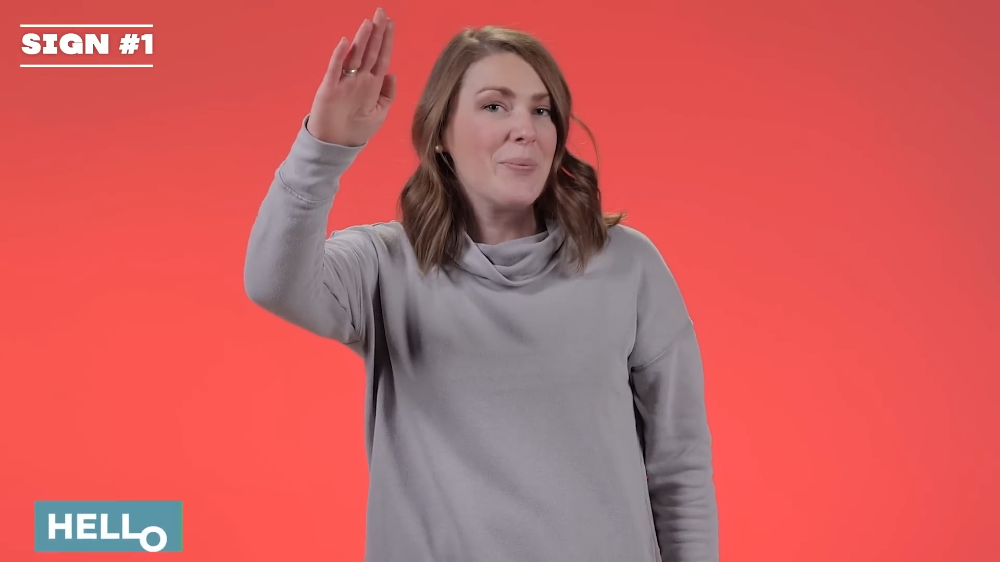hello: (312, 1, 401, 147)
